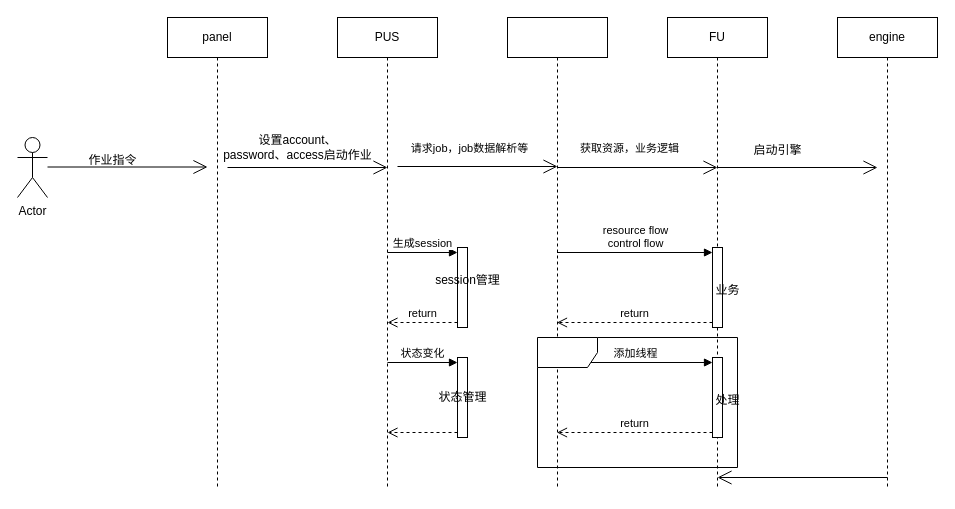
This 955x509 diagram has some shape labels left out. Each missing label, with the box of its shape:
Job: (506, 16, 608, 488)
loop: (536, 336, 738, 468)
